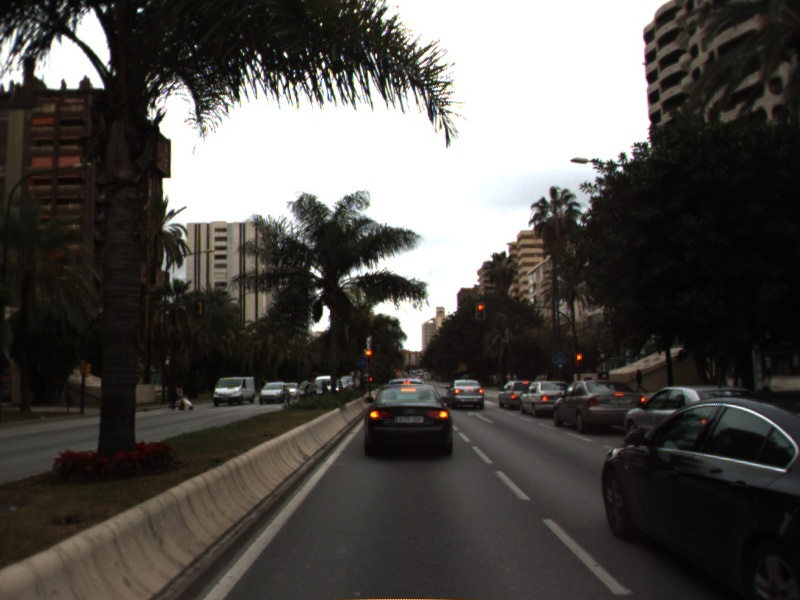STRAIGHT: (465, 408, 496, 425)
